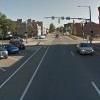Car: (74, 39, 96, 59)
